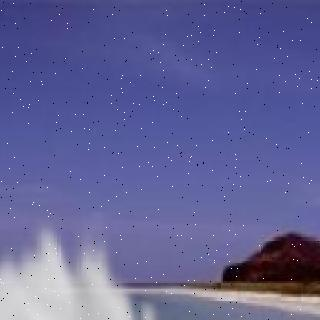smoke: (0, 231, 221, 320)
